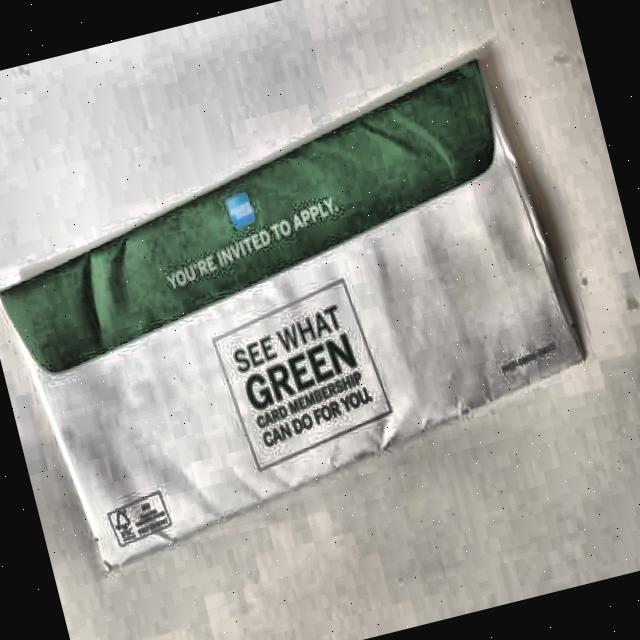paper: (0, 39, 618, 581)
